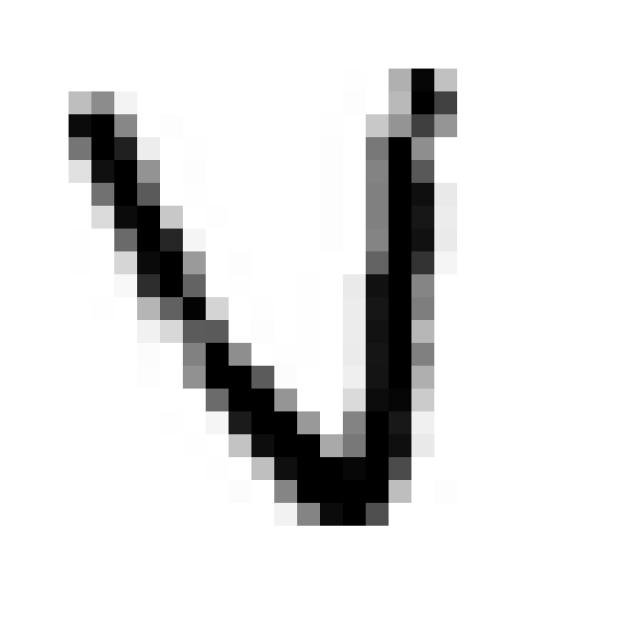7 -seven-: (48, 53, 473, 547)
